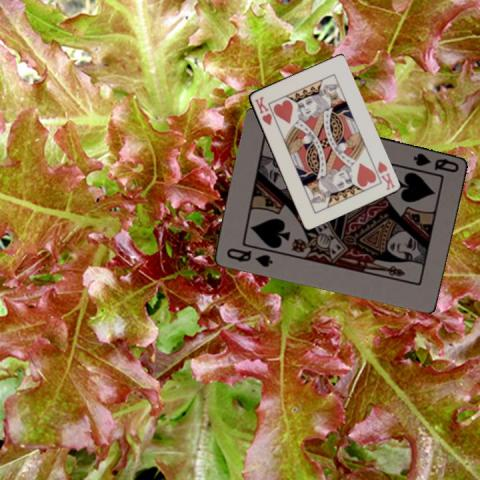Kh: (252, 93, 274, 127), (374, 158, 396, 191)
Qs: (410, 149, 461, 174), (224, 244, 273, 269)
